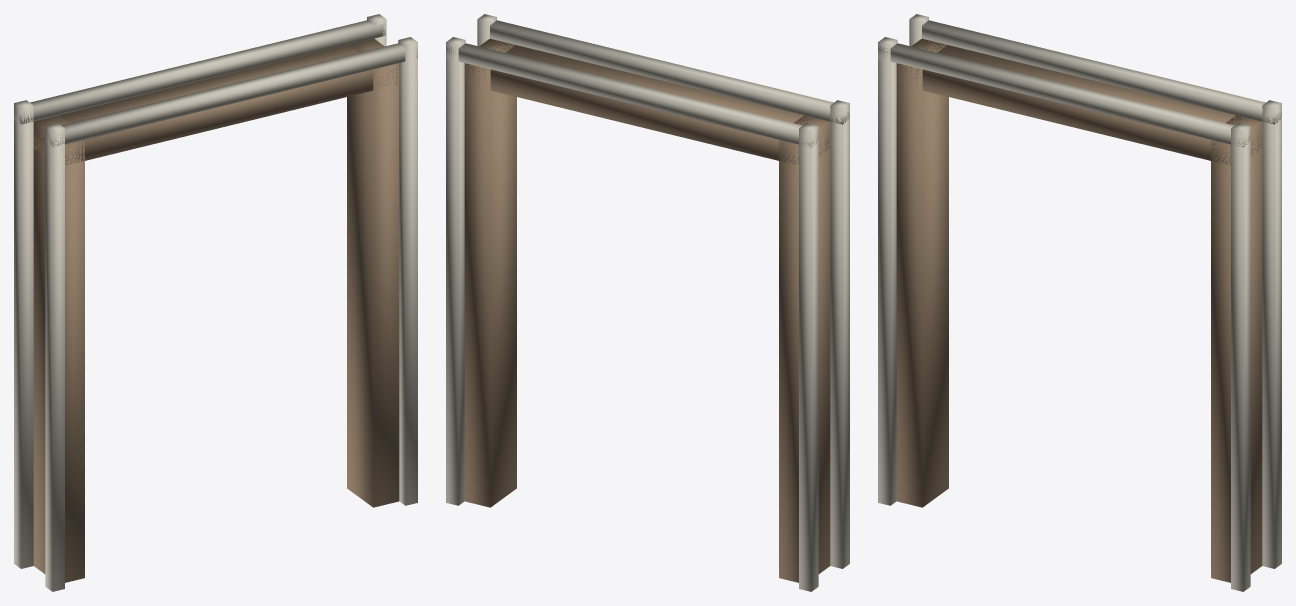
File: doorway_painted_trim_w152_h210_d24.glb
The picture shows the model from 3 angles, left to right: view 1: azimuth 30°, elevation 25°; view 2: azimuth 150°, elevation 25°; view 3: azimuth 330°, elevation 25°; orthographic projection.
Visible parts, largest first — view 1: world; view 2: world; view 3: world.
Part boxes in pixels (x1,y1,x2,y2): world: [14, 14, 417, 591]; world: [446, 14, 849, 591]; world: [878, 14, 1281, 591].
Bounding box in the file's own units: 1.92 × 2.32 × 0.3516.
